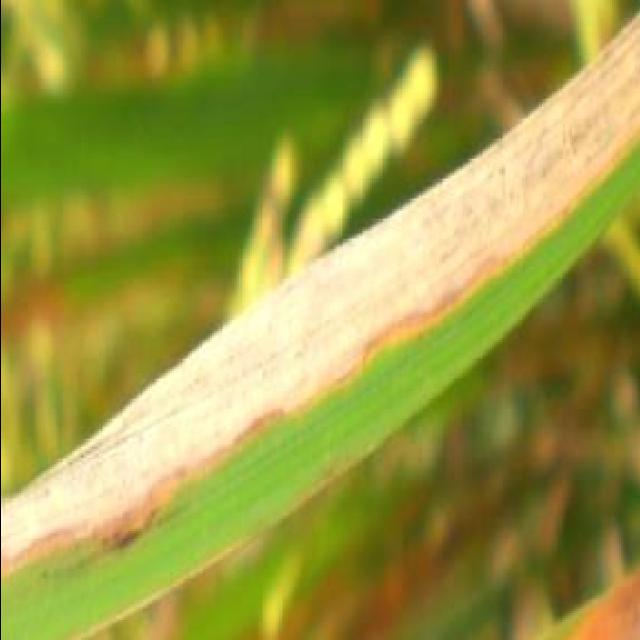Bacterial_Leaf_Blight: (47, 195, 569, 516)
